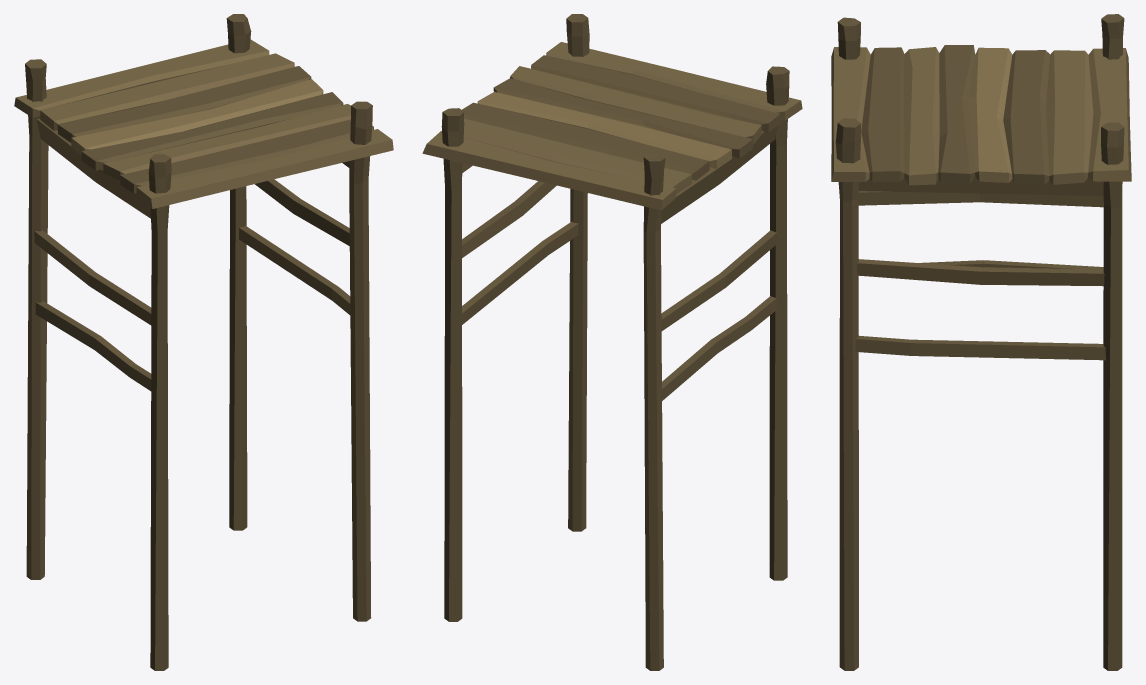
The model's file is Dock_3.fbx.
3 views of the same model, side by side, from view 1: azimuth 30°, elevation 25°; view 2: azimuth 150°, elevation 25°; view 3: azimuth 270°, elevation 25° (orthographic). The views are drawn at different scales.
Visible parts, largest first — view 1: Dock_3; view 2: Dock_3; view 3: Dock_3.
Boxes of the visible parts, x1,y1,x2,y2 form: Dock_3: (14, 14, 393, 670); Dock_3: (422, 14, 802, 670); Dock_3: (831, 14, 1131, 670).
Bounding box in the file's own units: 346 × 674 × 337.
